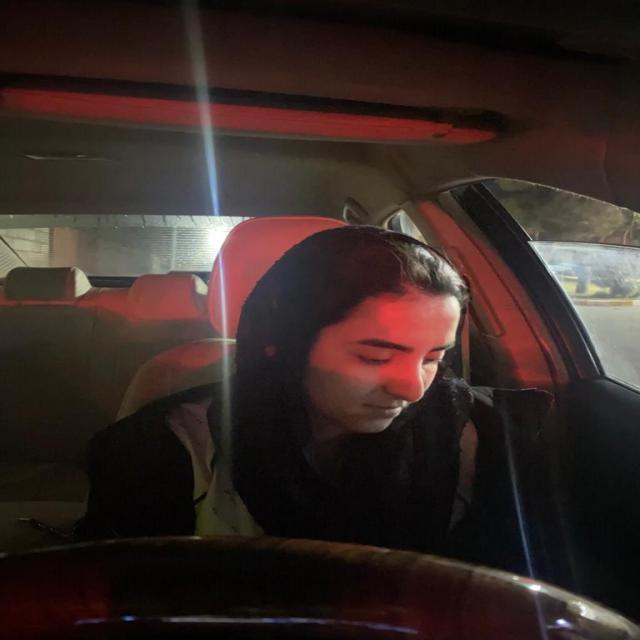drowsy: (276, 246, 470, 438)
